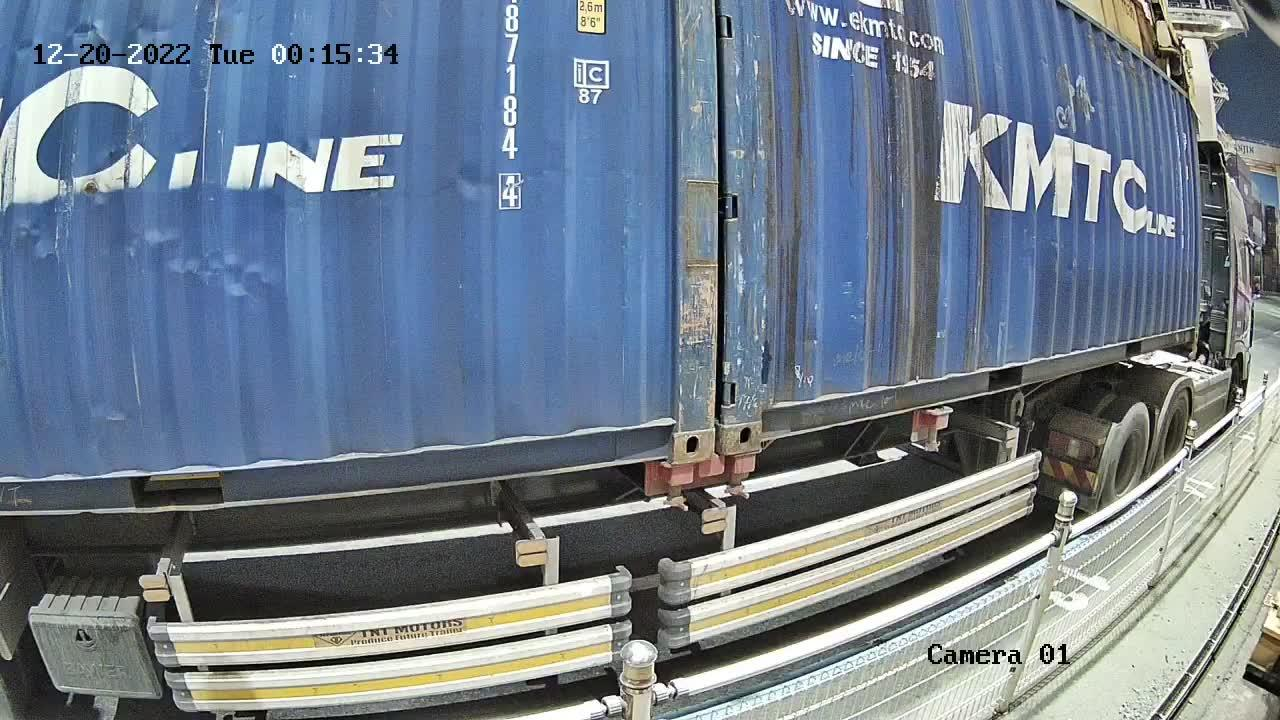Cone: (728, 445, 770, 508), (657, 462, 707, 510)
Hole_L: (723, 362, 792, 452)
Hole_R: (619, 385, 714, 466)
Tire: (1105, 405, 1152, 500), (1157, 390, 1192, 465)
